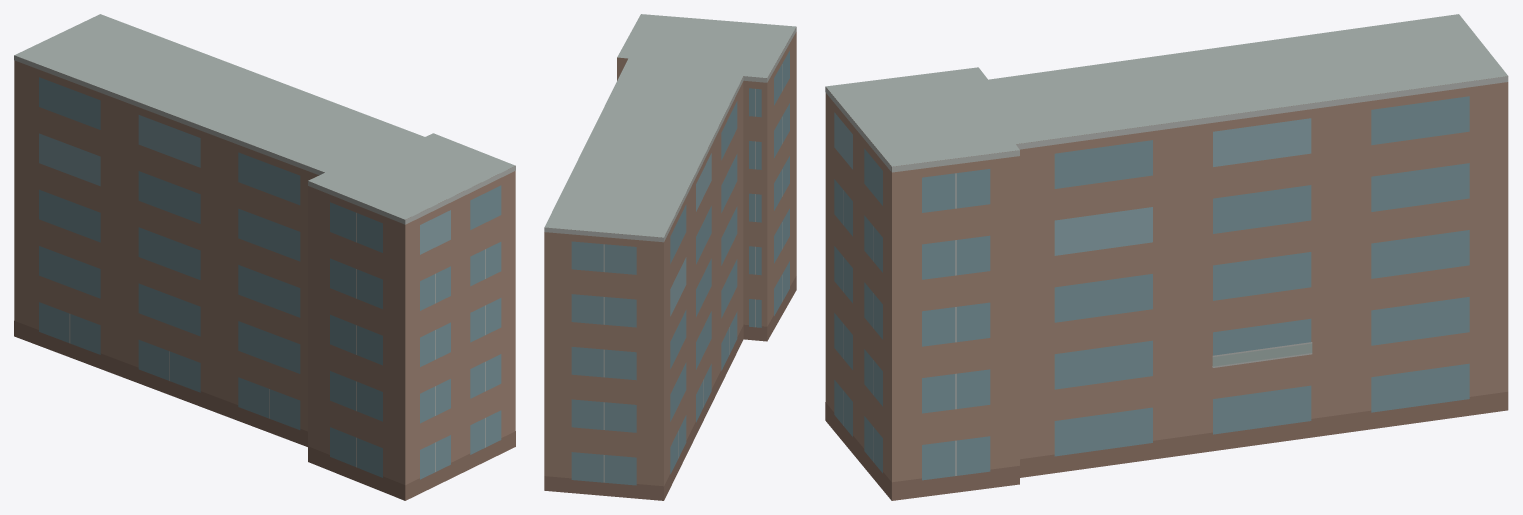
File: survey-upis-33016162.glb
The picture shows the model from 3 angles, left to right: view 1: azimuth 30°, elevation 25°; view 2: azimuth 150°, elevation 25°; view 3: azimuth 270°, elevation 25°; orthographic projection. The views are drawn at different scales.
Parts seen in each view (by area): view 1: survey-upis-33016162.tmp; view 2: survey-upis-33016162.tmp; view 3: survey-upis-33016162.tmp.
Boxes of the visible parts, <box> form: survey-upis-33016162.tmp: <box>14,14,515,500</box>; survey-upis-33016162.tmp: <box>544,14,796,500</box>; survey-upis-33016162.tmp: <box>825,14,1508,500</box>.
Size of the model in its own units: 13.53 by 13.8 by 25.56.
